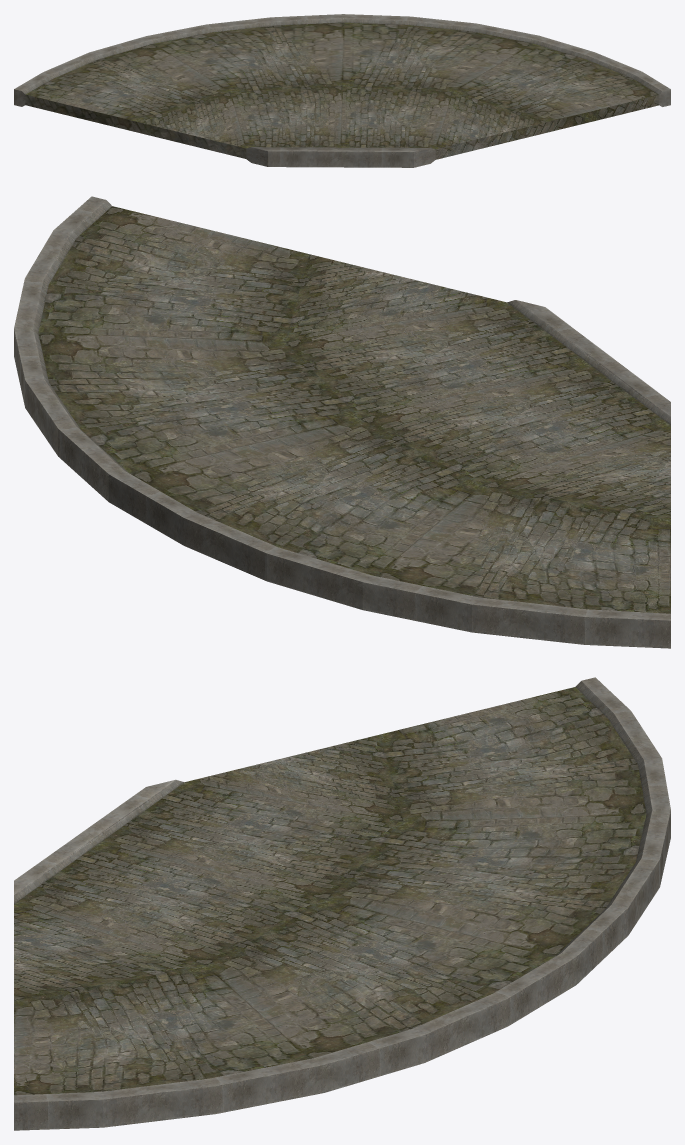
The model's file is bg_lut_lutomb_floor02_sm_old.FBX.
3 views of the same model, one above another, from view 1: azimuth 30°, elevation 25°; view 2: azimuth 150°, elevation 25°; view 3: azimuth 270°, elevation 25° (orthographic). The views are drawn at different scales.
Parts seen in each view (by area): view 1: bg_lut_lutomb_floor02_sm_old; view 2: bg_lut_lutomb_floor02_sm_old; view 3: bg_lut_lutomb_floor02_sm_old.
Part boxes in pixels (x1,y1,x2,y2): bg_lut_lutomb_floor02_sm_old: (14, 14, 670, 167); bg_lut_lutomb_floor02_sm_old: (14, 196, 670, 648); bg_lut_lutomb_floor02_sm_old: (14, 677, 670, 1130).
Size of the model in its own units: 3123 by 96 by 2039.
